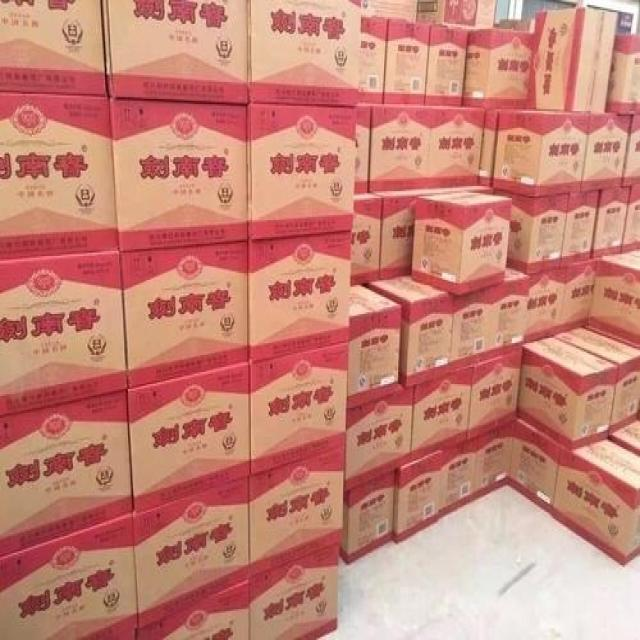box: (0, 391, 132, 558), (110, 97, 248, 254), (0, 249, 128, 415), (0, 94, 119, 259), (120, 241, 250, 389), (129, 476, 250, 630), (128, 364, 251, 512), (0, 514, 138, 640), (101, 0, 248, 106), (248, 106, 356, 241), (247, 230, 353, 362), (248, 345, 348, 478), (248, 445, 346, 580), (248, 0, 361, 108), (550, 435, 640, 567), (518, 335, 617, 451), (411, 191, 512, 297), (369, 275, 454, 394), (554, 324, 640, 435), (525, 9, 618, 111), (248, 544, 339, 640), (494, 108, 590, 198), (346, 387, 415, 495), (494, 186, 570, 278), (134, 580, 248, 640), (348, 283, 399, 411), (369, 188, 435, 280), (410, 367, 472, 463), (584, 247, 640, 346), (462, 32, 532, 109), (369, 104, 431, 189), (508, 418, 562, 514), (339, 473, 396, 563), (467, 348, 522, 440), (430, 104, 485, 188), (393, 451, 442, 543), (451, 287, 497, 375), (580, 114, 631, 193), (384, 17, 430, 104), (451, 287, 493, 375), (424, 27, 468, 106), (475, 420, 515, 500), (524, 268, 564, 346), (439, 437, 476, 521), (561, 188, 599, 266), (591, 186, 631, 259), (604, 34, 640, 114), (357, 15, 388, 104), (561, 259, 599, 331), (497, 266, 527, 357), (351, 191, 380, 285), (417, 0, 498, 29), (480, 108, 499, 186), (622, 113, 640, 188), (355, 102, 370, 191), (622, 181, 640, 253), (612, 415, 640, 454)
